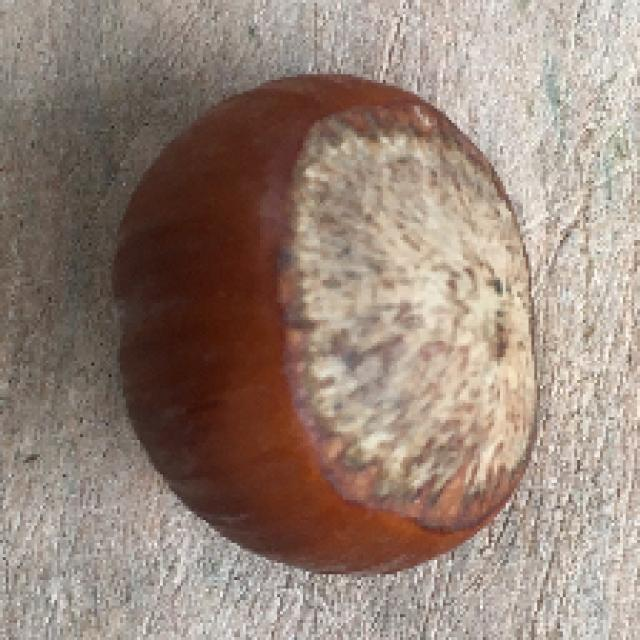qualityHazelnut: (106, 73, 544, 578)
